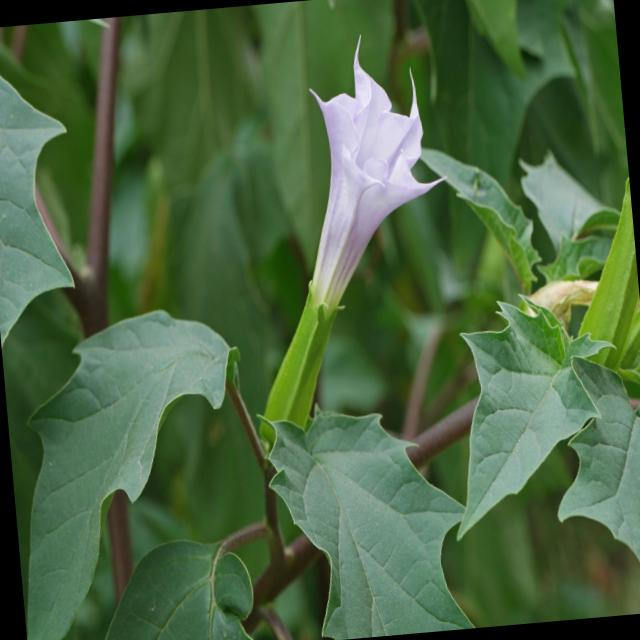Poisonous-Datura_Stramonium: (226, 38, 467, 450), (0, 288, 282, 640), (282, 424, 466, 640)
